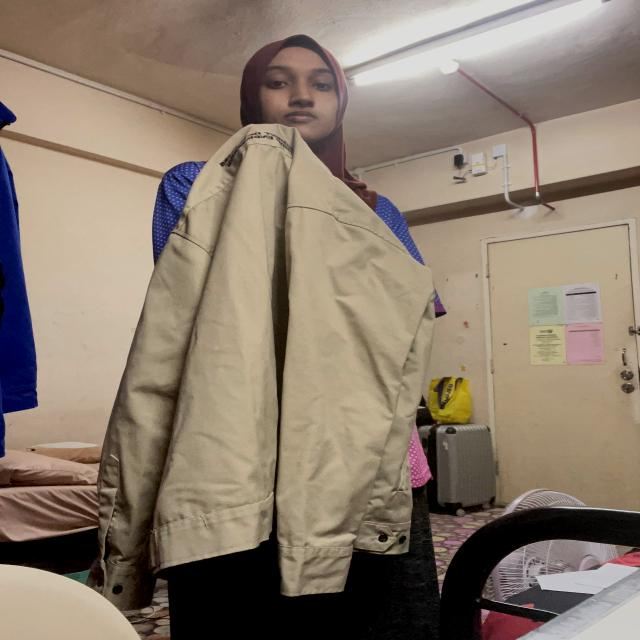person_without_labcoat: (93, 35, 439, 640)
